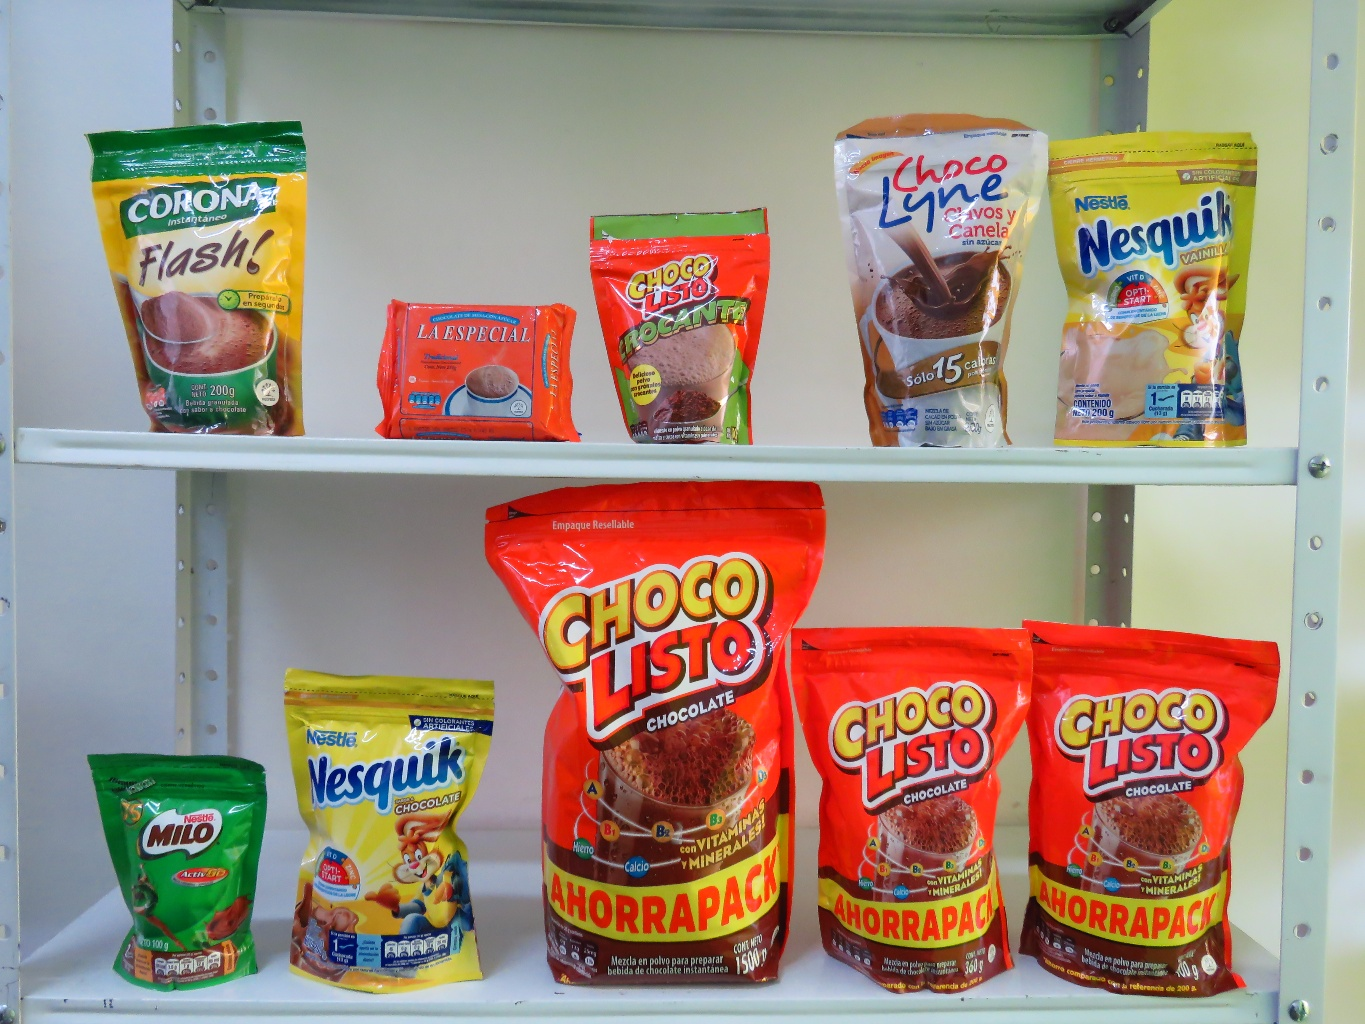COL0170102DYP10000: (596, 208, 787, 447)
COL0170103DYP1,500: (492, 454, 823, 987)
COL0170103DYP36000: (792, 620, 1037, 1002)
COL0170103DYP40000: (1028, 623, 1285, 1002)
COL0170203DYP10000: (81, 727, 289, 992)
COL0170303DYP20000: (280, 655, 513, 990)
COL0170306DYP20000: (1052, 124, 1281, 436)
